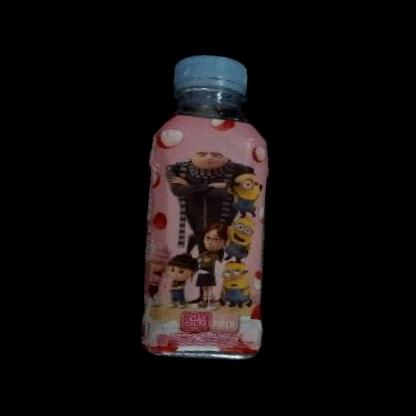plastic_bottles: (127, 47, 292, 370)
